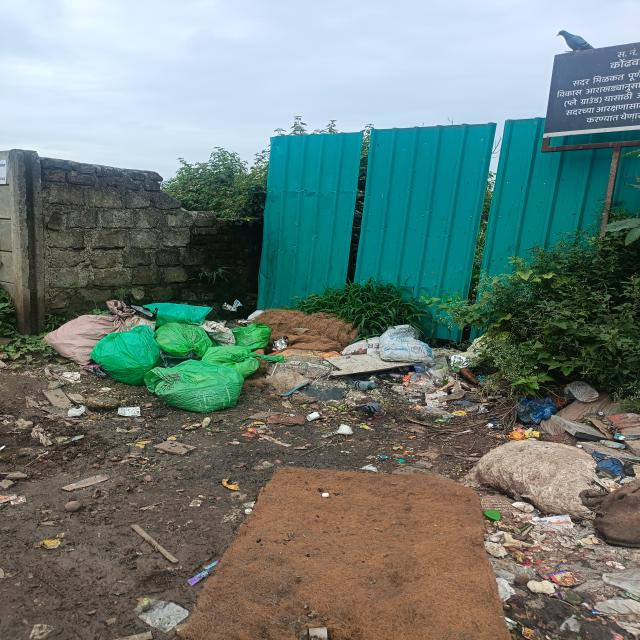garbage: (24, 292, 453, 412)
